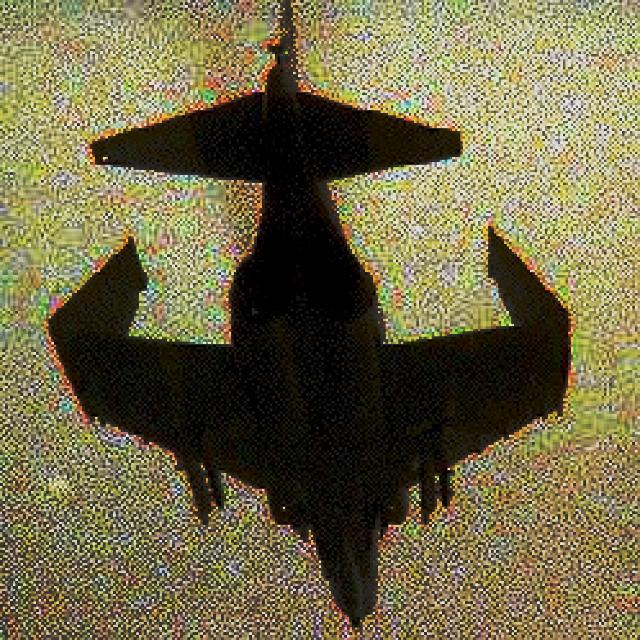Aircraft: (44, 0, 573, 630)
